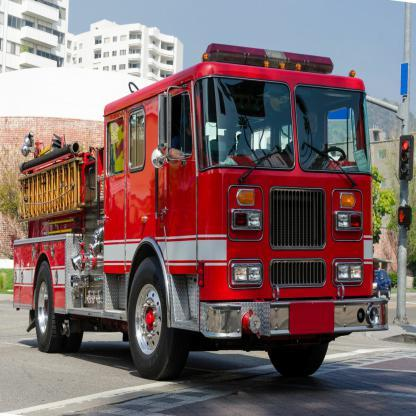fire-truck: (0, 30, 388, 404)
